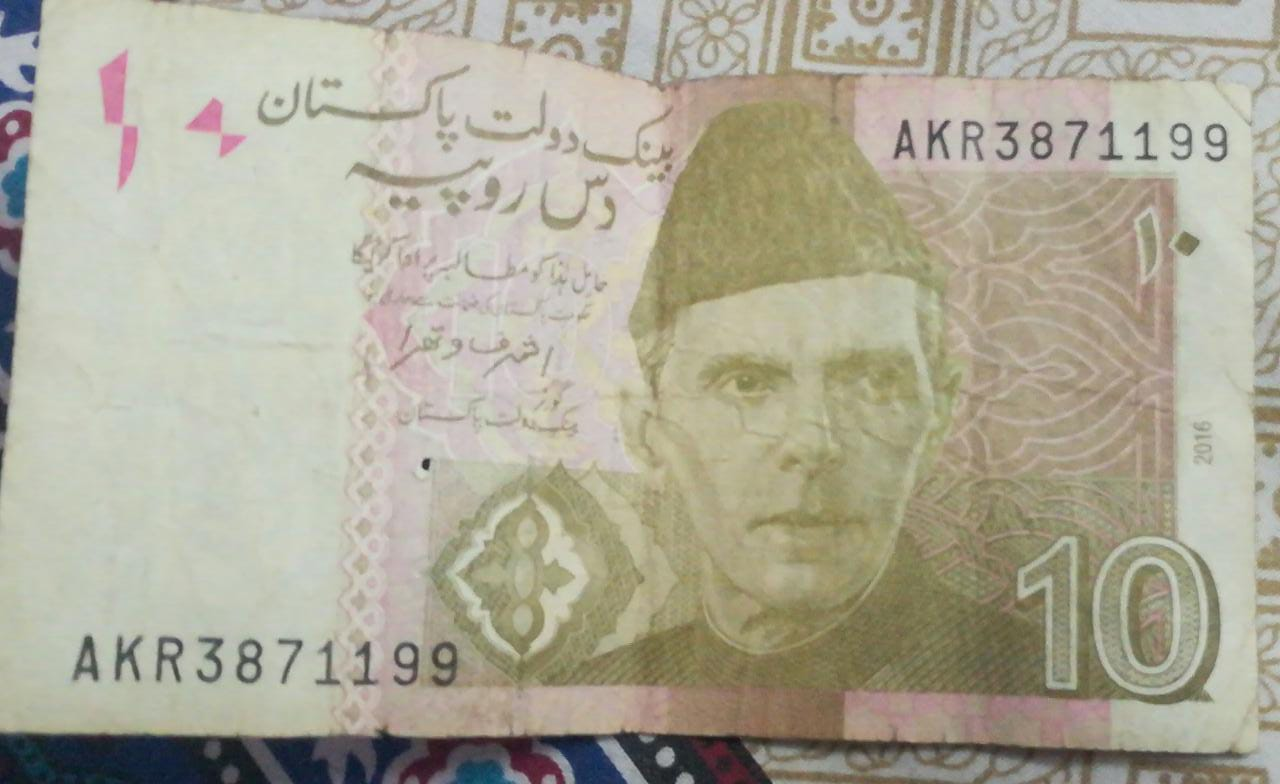10 rupee: (15, 9, 1274, 719)
